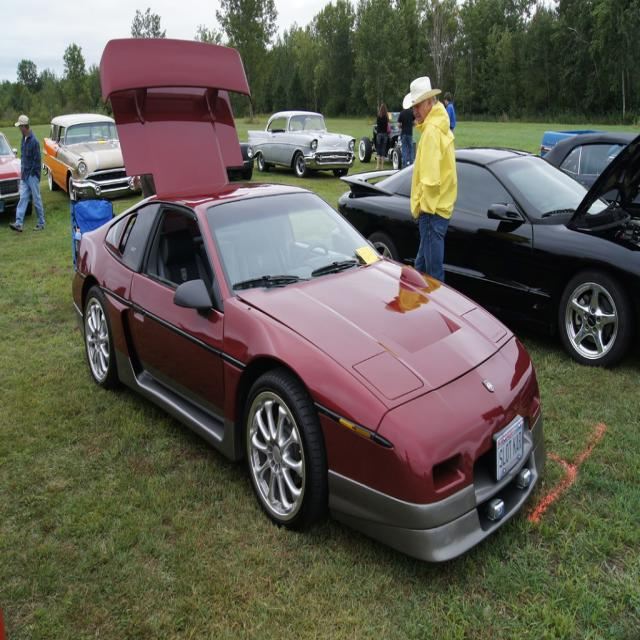car: (66, 30, 546, 571)
